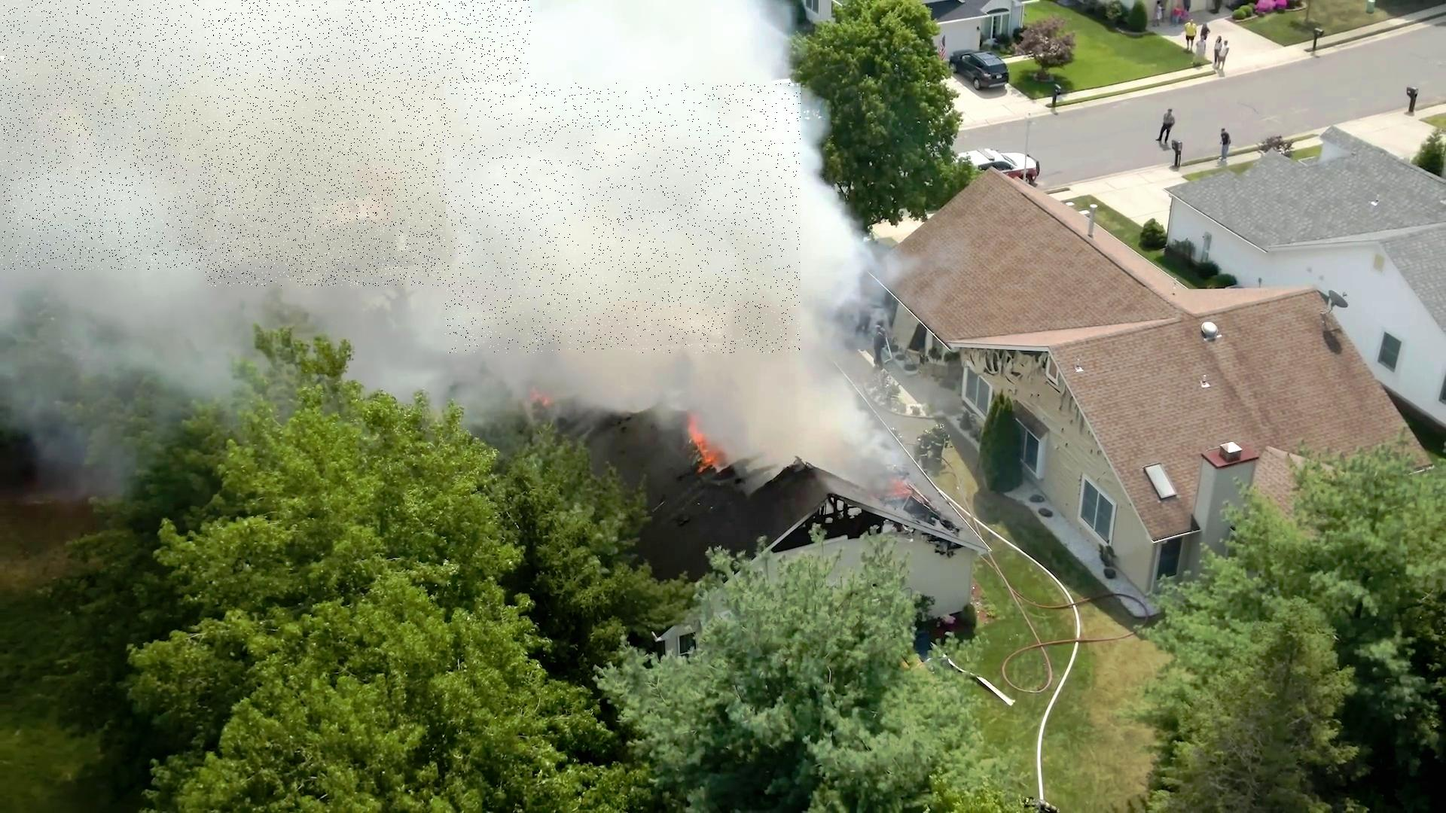smoke: (0, 0, 532, 269), (445, 83, 801, 353), (206, 1, 511, 287)
